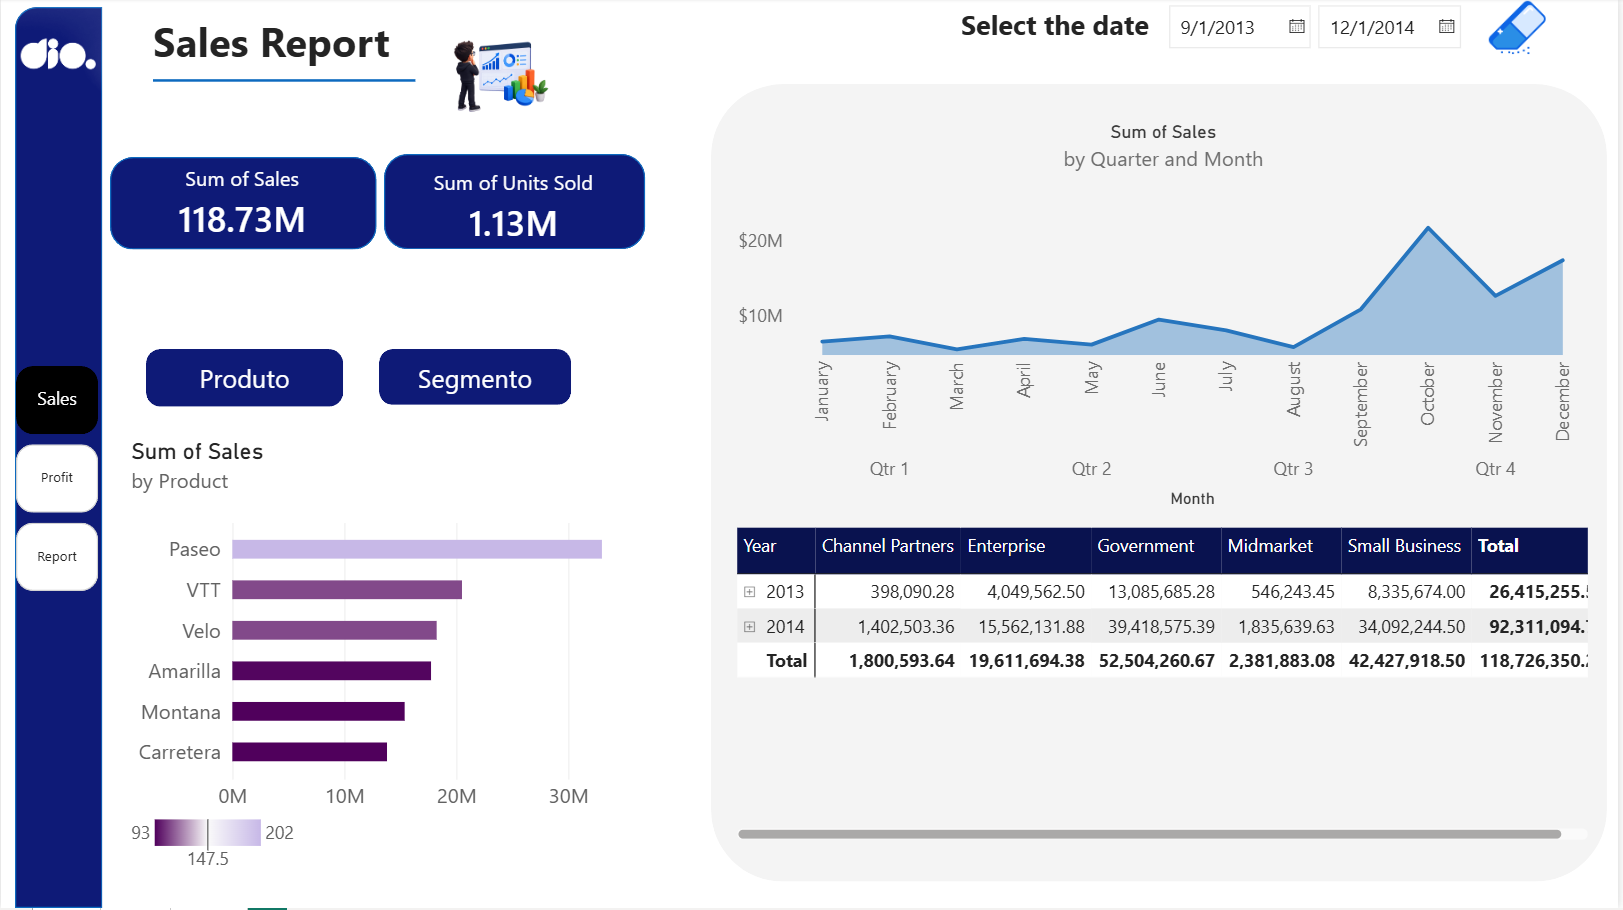

Layout of this report page (visuals, bound fields, positions):
{"tool":"powerbi","page":{"name":"Sales","canvas":[1280,720],"ordinal":0},"visuals":[{"type":"slicer","fields":{"Values":["financials.Date"]},"box":[916.2,1.2,327.2,44.7],"z":0,"group":"g2"},{"type":"shape","box":[11,6.8,69.2,713],"z":0},{"type":"shape","box":[86,125.9,210.8,73.2],"z":0,"group":"g1"},{"type":"clusteredBarChart","fields":{"Category":["financials.Segment"],"Y":["Sum(financials.Sales)"]},"box":[87.1,335.6,436.9,369.8],"z":0,"group":"g3"},{"type":"image","title":"logo_dio","box":[4.7,4.7,81.3,78.9],"z":1000},{"type":"textbox","box":[759.5,6.4,162,28.5],"z":1000,"group":"g2"},{"type":"shape","box":[302.5,123.6,206.7,75.4],"z":1000,"group":"g1"},{"type":"actionButton","title":"B-Produto","box":[114.9,277.9,156.1,45.6],"z":1000,"group":"g3"},{"type":"group","id":"g1","title":"Cartões","box":[86,123.6,422.7,75.4],"z":2000},{"type":"actionButton","title":"B-Segmento","box":[299.5,277.9,152.1,44.4],"z":2000,"group":"g3"},{"type":"textbox","box":[120.7,11.8,212.6,47.3],"z":3000},{"type":"clusteredBarChart","fields":{"Category":["financials.Product"],"Y":["Sum(financials.Sales)"]},"box":[87.1,334.3,438,371],"z":3000,"group":"g3"},{"type":"shape","box":[120.7,46.4,207.6,37.1],"z":4000},{"type":"areaChart","fields":{"Category":["financials.Date.Variation.Date Hierarchy.Quarter","financials.Date.Variation.Date Hierarchy.Month"],"Y":["Sum(financials.Sales)"]},"box":[566.4,83.6,706.5,335.6],"z":5000},{"type":"cardVisual","fields":{"Data":["Sum(financials.Sales)"]},"box":[107.2,129.5,168.8,65],"z":6000},{"type":"cardVisual","fields":{"Data":["Sum(financials.Units Sold)"]},"box":[320.3,131.9,170.7,67.1],"z":7000},{"type":"group","id":"g2","title":"Filtro por data","box":[759.5,1.2,484,44.7],"z":8000},{"type":"image","box":[1174,1.2,51.8,44.9],"z":10000},{"type":"actionButton","box":[1164.6,0,70.7,44.5],"z":11000},{"type":"image","box":[312.1,0,162.5,123.6],"z":12000},{"type":"shape","box":[561.7,68.3,708.9,631.2],"z":13000},{"type":"group","id":"g3","title":"Group 1","box":[87.1,277.9,438,427.5],"z":14000},{"type":"pivotTable","fields":{"Columns":["financials.Segment"],"Rows":["financials.Date.Variation.Date Hierarchy.Year","financials.Date.Variation.Date Hierarchy.Quarter"],"Values":["Sum(financials.Sales)"]},"box":[566.2,405,704.5,276.8],"z":15000},{"type":"pageNavigator","box":[12.2,291.5,65.4,179.5],"z":15001}]}

Visuals, with their boxes in screenshot pixels (x1, y1, x2, y2), scaled from the page's 1280x720 canvas onto the 1623x910 screenshot:
slicer - financials.Date: detection(1162, 2, 1577, 58)
shape: detection(14, 9, 102, 909)
shape: detection(109, 159, 376, 252)
clusteredBarChart - financials.Segment x Sum(financials.Sales): detection(110, 424, 664, 892)
"logo_dio" image: detection(6, 6, 109, 106)
textbox: detection(963, 8, 1168, 44)
shape: detection(384, 156, 646, 252)
"B-Produto" actionButton: detection(146, 351, 344, 409)
"Cartões" group: detection(109, 156, 645, 252)
"B-Segmento" actionButton: detection(380, 351, 573, 407)
textbox: detection(153, 15, 423, 75)
clusteredBarChart - financials.Product x Sum(financials.Sales): detection(110, 423, 666, 891)
shape: detection(153, 59, 416, 106)
areaChart - financials.Date.Variation.Date Hierarchy.Quarter x financials.Date.Variation.Date Hierarchy.Month: detection(718, 106, 1614, 530)
cardVisual - Sum(financials.Sales): detection(136, 164, 350, 246)
cardVisual - Sum(financials.Units Sold): detection(406, 167, 623, 252)
"Filtro por data" group: detection(963, 2, 1577, 58)
image: detection(1489, 2, 1554, 58)
actionButton: detection(1477, 0, 1566, 56)
image: detection(396, 0, 602, 156)
shape: detection(712, 86, 1611, 884)
"Group 1" group: detection(110, 351, 666, 892)
pivotTable - financials.Segment x financials.Date.Variation.Date Hierarchy.Year: detection(718, 512, 1611, 862)
pageNavigator: detection(15, 368, 98, 595)
